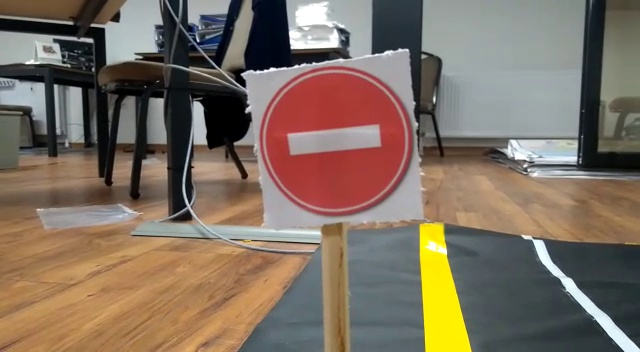girisi_olmayan_yol: (260, 56, 418, 215)
